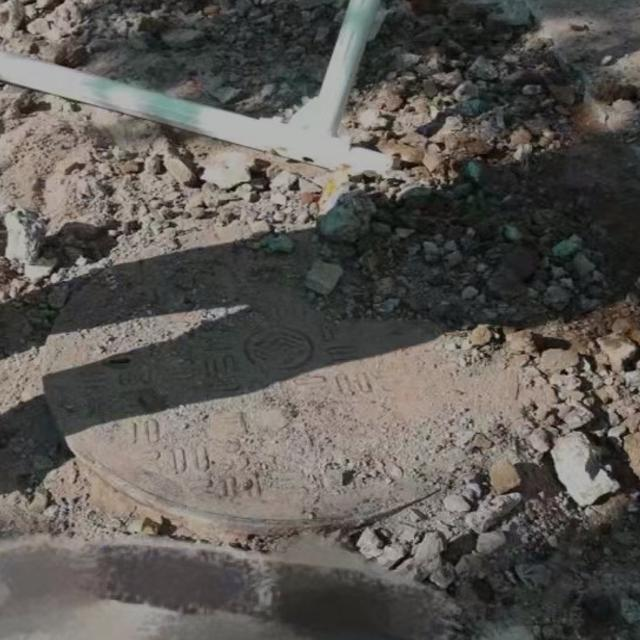circle: (0, 218, 610, 592)
